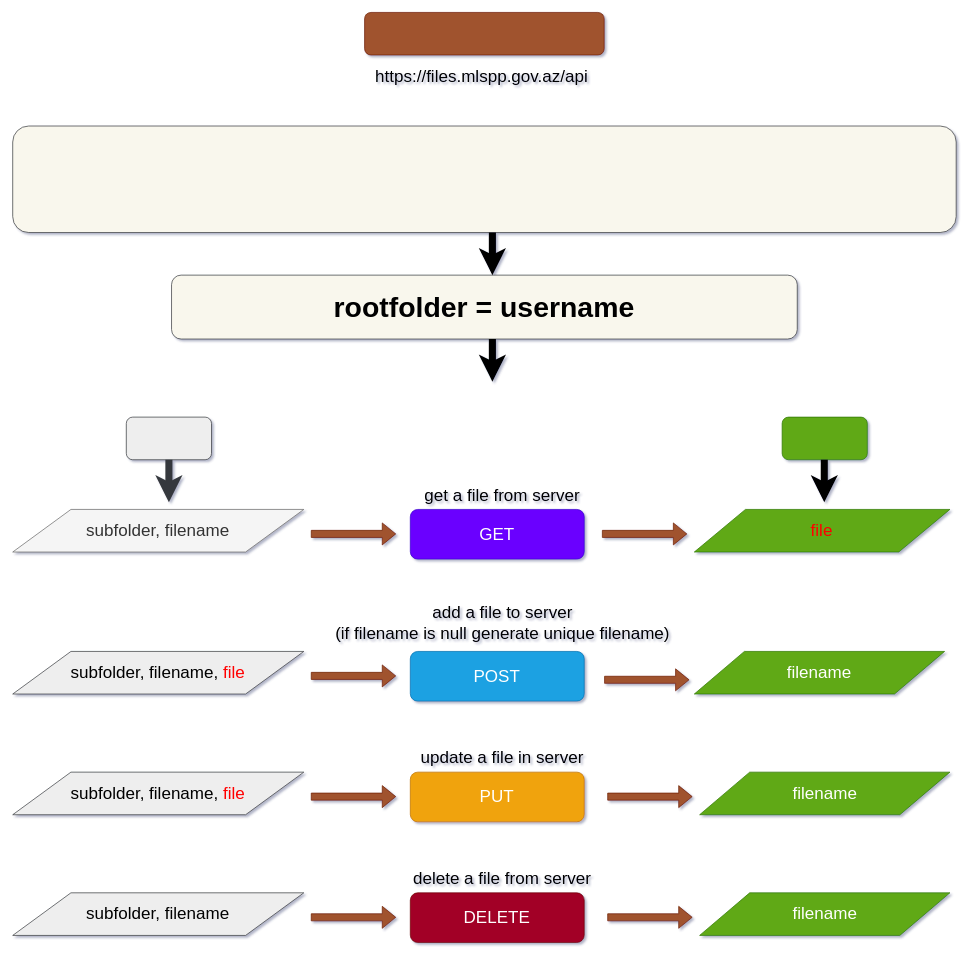
Image size: 973x959. Some labels were removed from this diagram. Here are the shapes that lost their labels. From the top down, the box of each, then its label:
(364, 12, 604, 55): KULPIN API
(12, 125, 956, 233): AUTHORIZATION (username, password)
(126, 416, 212, 460): request
(781, 416, 867, 460): response
